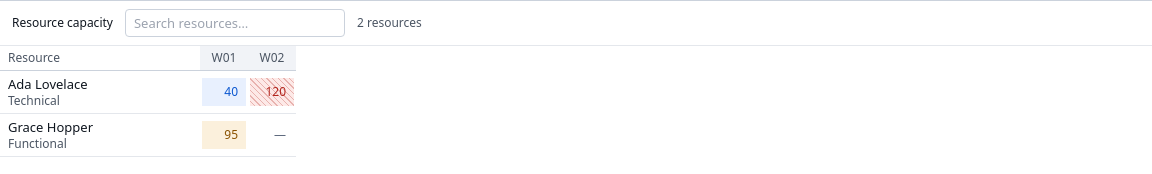
Scenario: GanttCapacityPanel › says so when nothing matches, rather than showing a bare table
The width and height of the screenshot is (1152, 174).
Type "nobody" into the search field labelled "Search resources" at (235, 23), box left=125, top=9, right=345, bottom=37
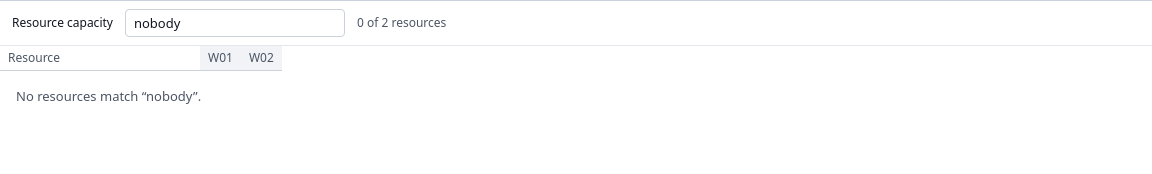
Result: the text "No resources match “nobody”." is shown at left=16, top=87, right=201, bottom=105
Result: the message reads "0 of 2 resources" at left=357, top=14, right=446, bottom=31
